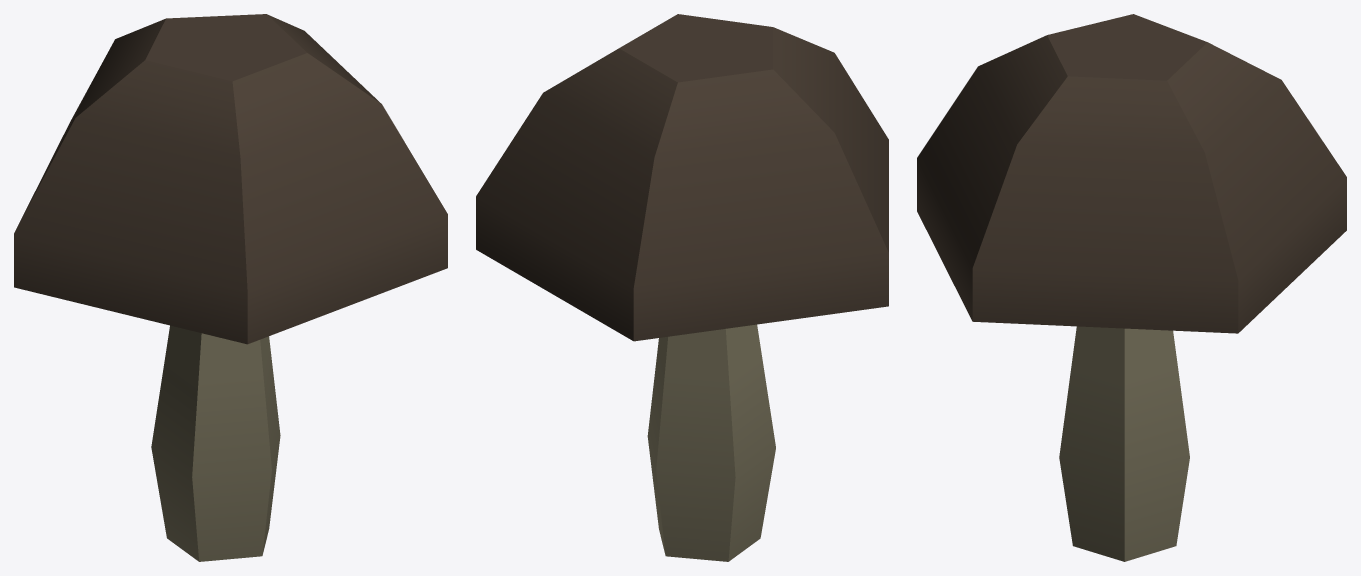
The model's file is BigBrownMushroom.fbx.
3 views of the same model, side by side, from view 1: azimuth 30°, elevation 25°; view 2: azimuth 150°, elevation 25°; view 3: azimuth 270°, elevation 25° (orthographic).
Parts seen in each view (by area): view 1: BrownMushroom1; view 2: BrownMushroom1; view 3: BrownMushroom1.
Boxes of the visible parts, box(x1,y1,x2,y2) form: BrownMushroom1: box(14, 14, 447, 561); BrownMushroom1: box(476, 14, 888, 561); BrownMushroom1: box(917, 14, 1346, 561).
Size of the model in its own units: 10.24 by 13.09 by 10.41.
